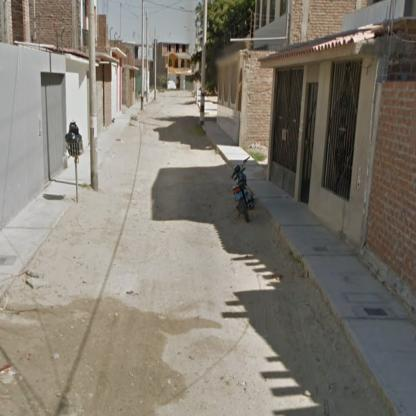Moto: (232, 160, 256, 222)
Pista: (3, 92, 388, 414)
